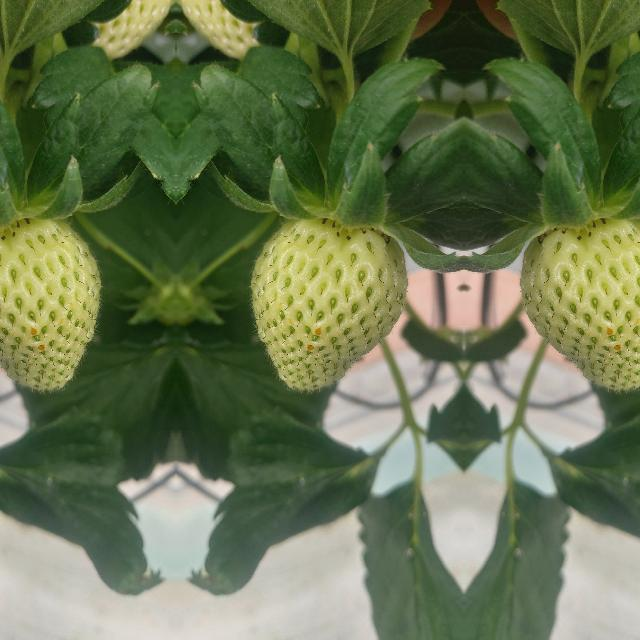Health_25: (249, 218, 406, 390), (519, 218, 640, 390), (0, 218, 100, 390)
